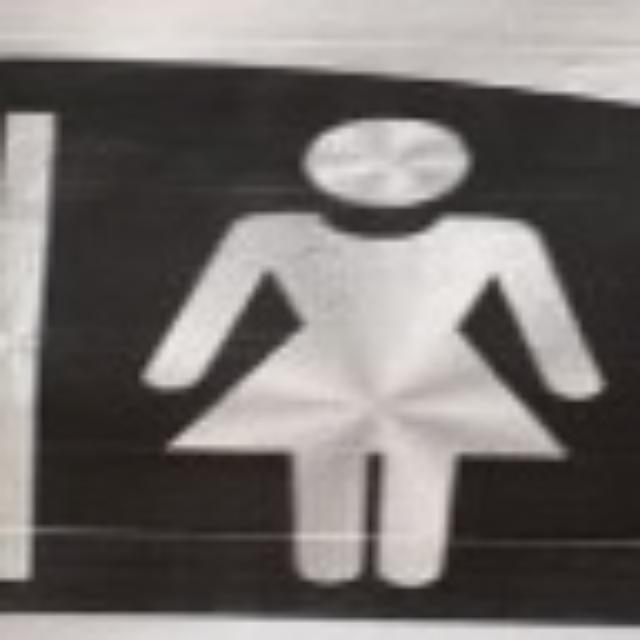wc nu: (0, 60, 633, 613)
